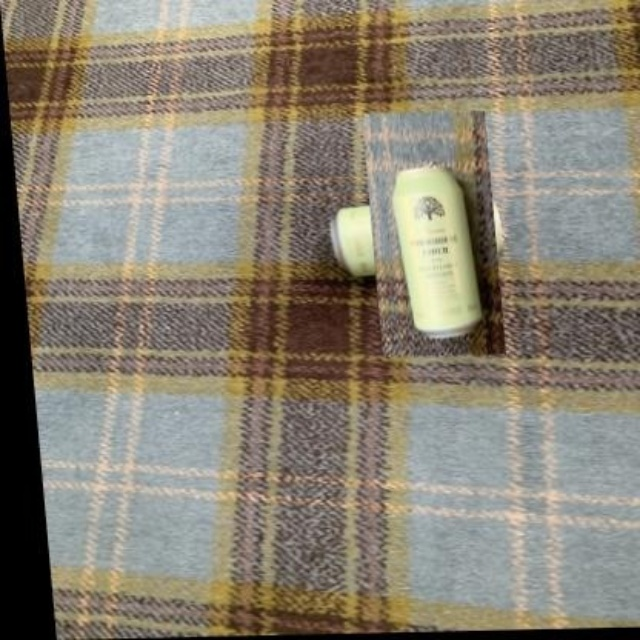trash: (392, 168, 480, 335), (331, 206, 374, 275)
